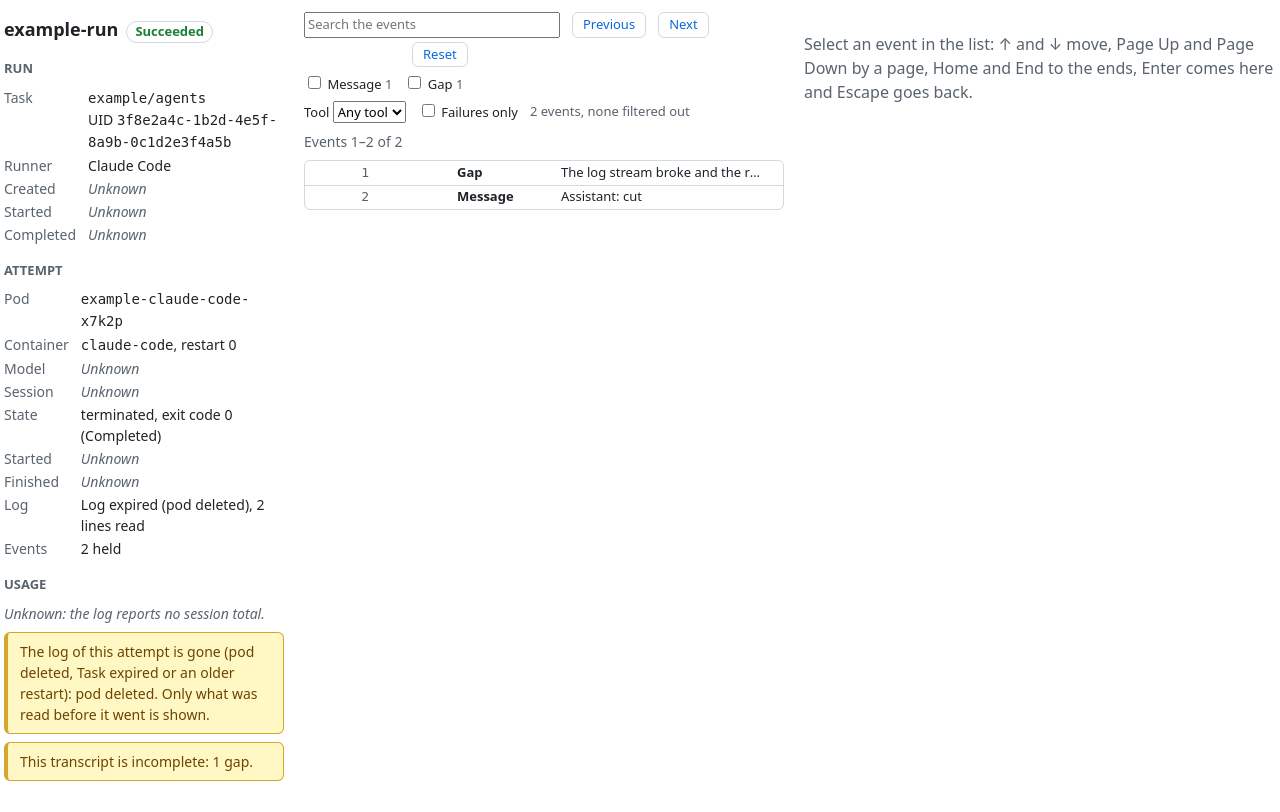
Test case: Inspector states › keeps truncation, gaps and an expired log in view
Expected: the option that starts with "Gap" shows "The log stream broke", [305, 160, 783, 185]
What coordinates should you click on to do the following:
click the option "2 Message Assistant: cut"
I would click on:
 (502, 196)
Its box is [361, 187, 642, 205].
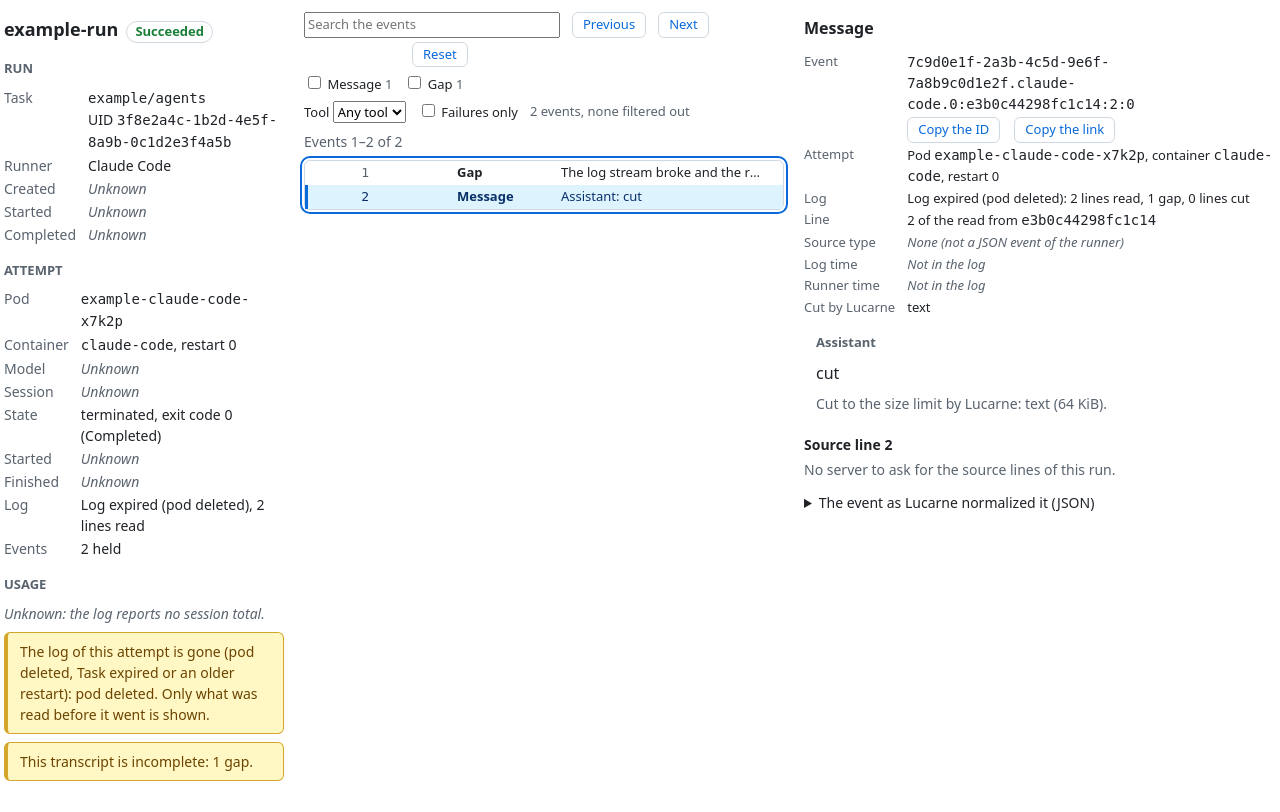
Now the element named "Event detail" shows "Cut to the size limit by Lucarne: text", box [816, 394, 1107, 412]
